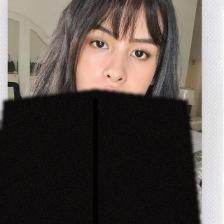Cadar_Niqab: (0, 0, 200, 224)
